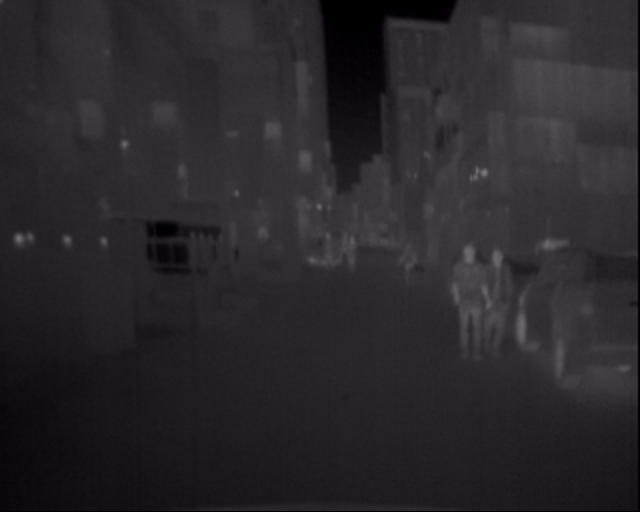person: (457, 220, 493, 350), (482, 225, 512, 349)
